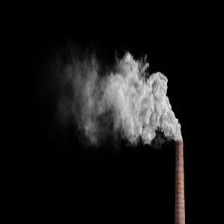smoke: (67, 55, 190, 152)
